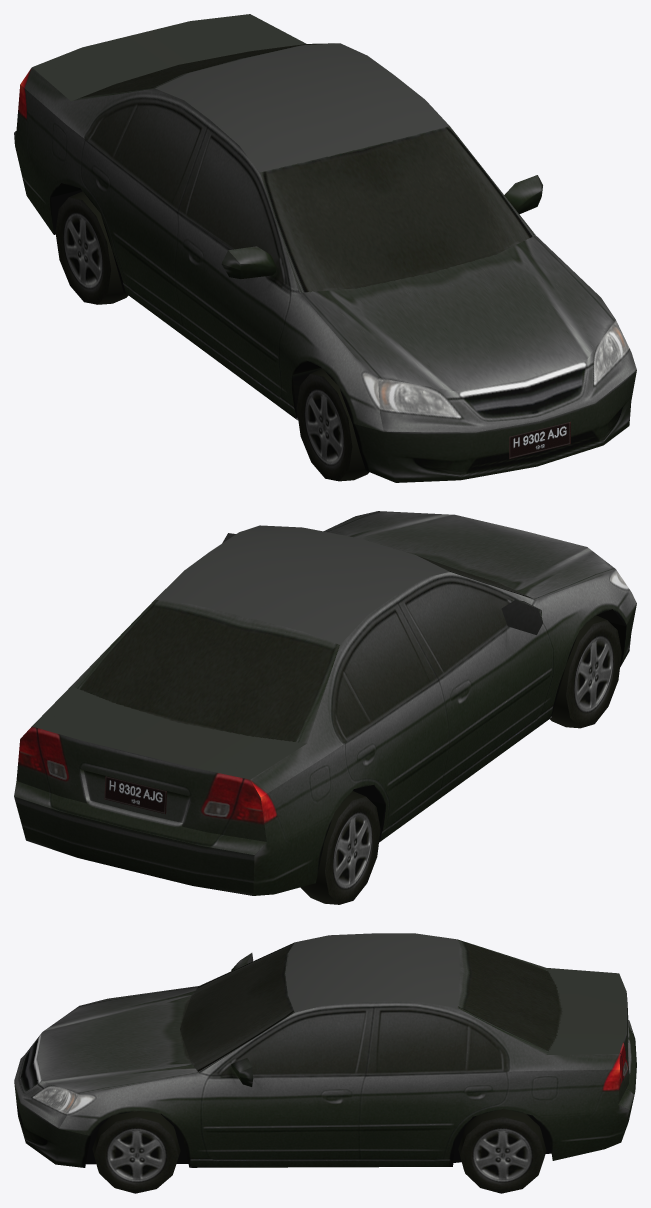
File: car4.glb
3 views of the same model, one above another, from view 1: azimuth 30°, elevation 25°; view 2: azimuth 150°, elevation 25°; view 3: azimuth 270°, elevation 25° (orthographic). The views are drawn at different scales.
Parts seen in each view (by area): view 1: body.cvc_Material.004_0, cvc_wheel.001_Material.004_0, cvc_wheel_Material.004_0; view 2: body.cvc_Material.004_0, cvc_wheel.001_Material.004_0, cvc_wheel_Material.004_0; view 3: body.cvc_Material.004_0, cvc_wheel.002_Material.004_0, cvc_wheel.003_Material.004_0.
Boxes of the visible parts, x1,y1,x2,y2 form: body.cvc_Material.004_0: (14, 14, 636, 482); cvc_wheel.001_Material.004_0: (55, 191, 128, 304); cvc_wheel_Material.004_0: (296, 368, 369, 481); body.cvc_Material.004_0: (14, 511, 636, 895); cvc_wheel.001_Material.004_0: (300, 791, 380, 904); cvc_wheel_Material.004_0: (550, 615, 621, 728); body.cvc_Material.004_0: (14, 933, 636, 1167); cvc_wheel.002_Material.004_0: (458, 1108, 546, 1193); cvc_wheel.003_Material.004_0: (92, 1111, 180, 1193).
Bounding box in the file's own units: 2 × 1.42 × 4.41.
1 material, 1 textured.
